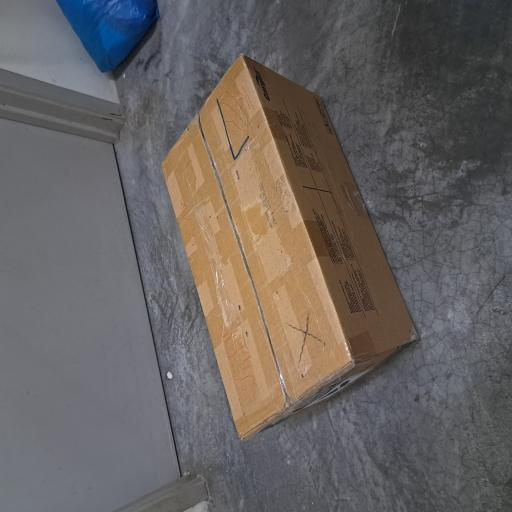cardboard: (55, 217, 343, 512)
